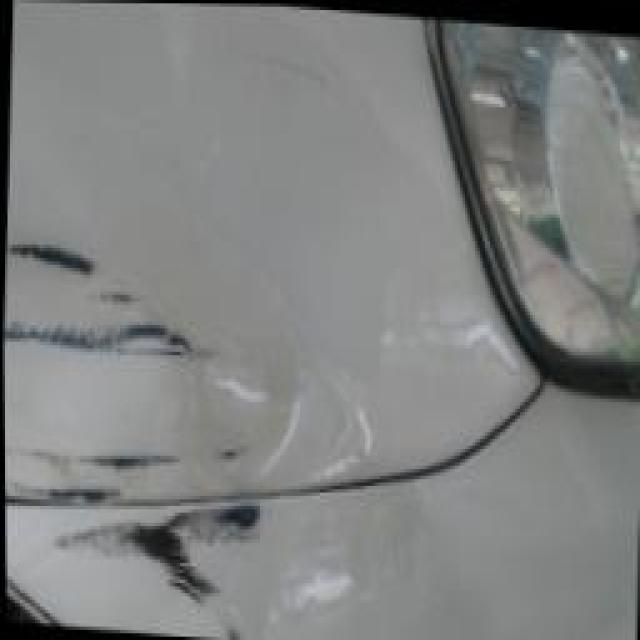Bumper: (5, 479, 481, 640)
Fender: (0, 0, 572, 552)
